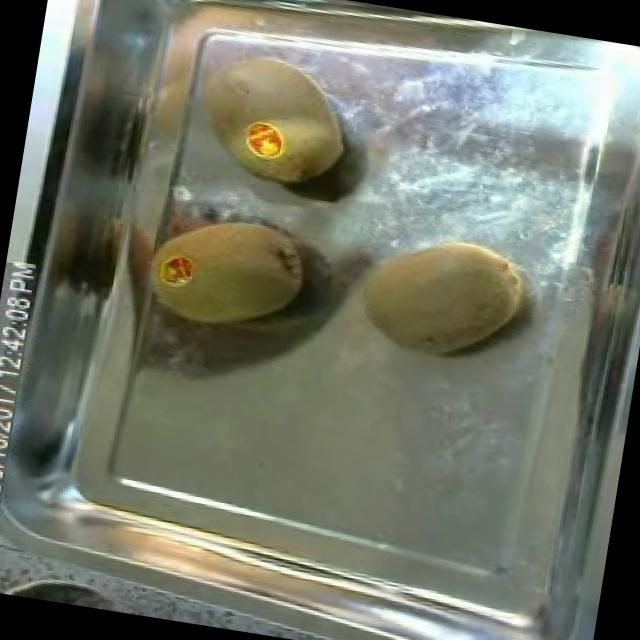Fruit: (162, 23, 370, 205), (344, 214, 538, 376), (133, 192, 323, 354)
